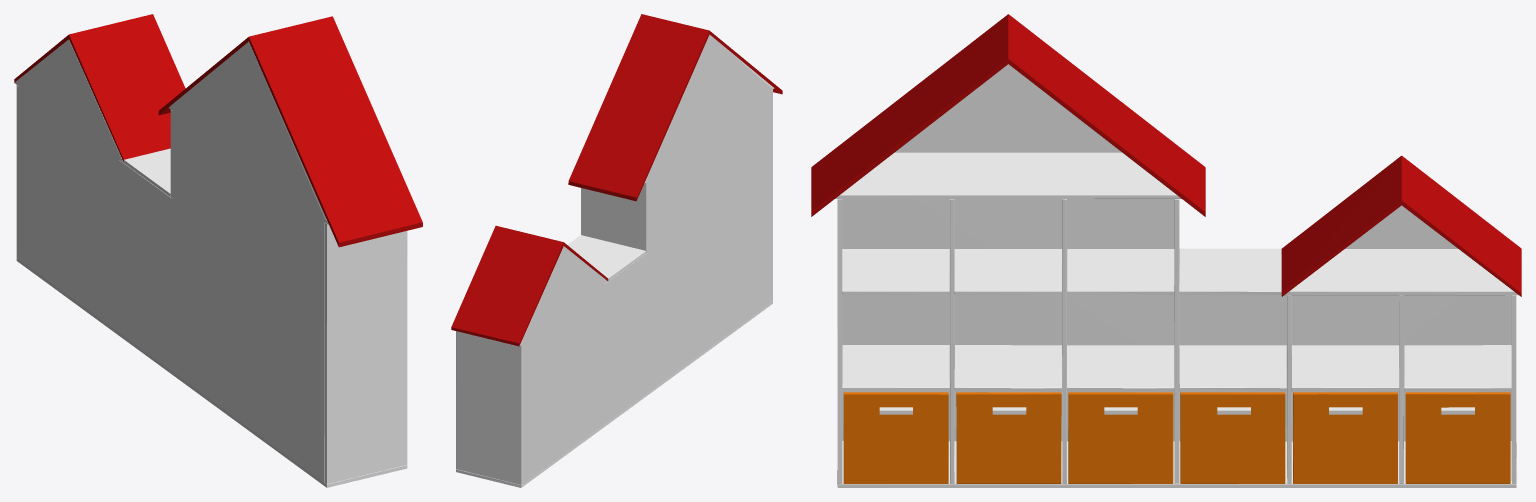
The model's file is Furniture 1.FBX.
3 views of the same model, side by side, from view 1: azimuth 30°, elevation 25°; view 2: azimuth 150°, elevation 25°; view 3: azimuth 270°, elevation 25° (orthographic). The views are drawn at different scales.
Parts seen in each view (by area): view 1: House furniture; view 2: House furniture; view 3: House furniture.
Part boxes in pixels (x1,y1,x2,y2): House furniture: (14, 14, 422, 487); House furniture: (451, 14, 782, 487); House furniture: (811, 14, 1521, 487).
Bounding box in the file's own units: 37.86 × 165 × 246.
